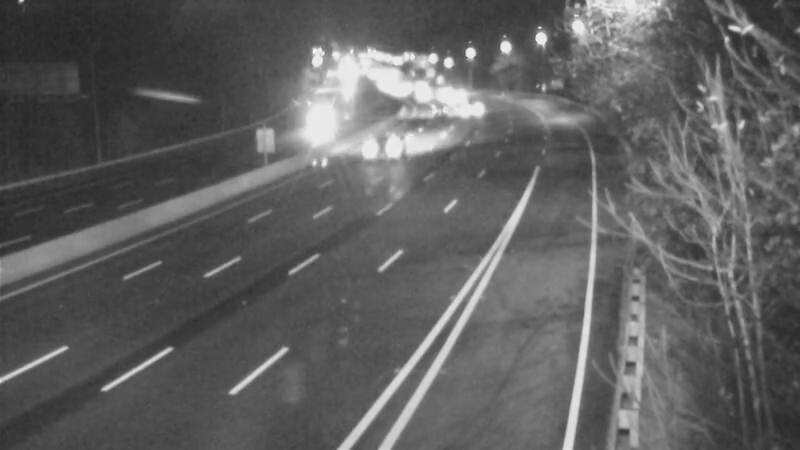vehicle: (375, 68, 425, 118), (395, 72, 445, 122), (426, 71, 476, 121), (450, 86, 500, 136), (361, 119, 411, 169), (410, 87, 460, 137), (297, 92, 347, 142)
